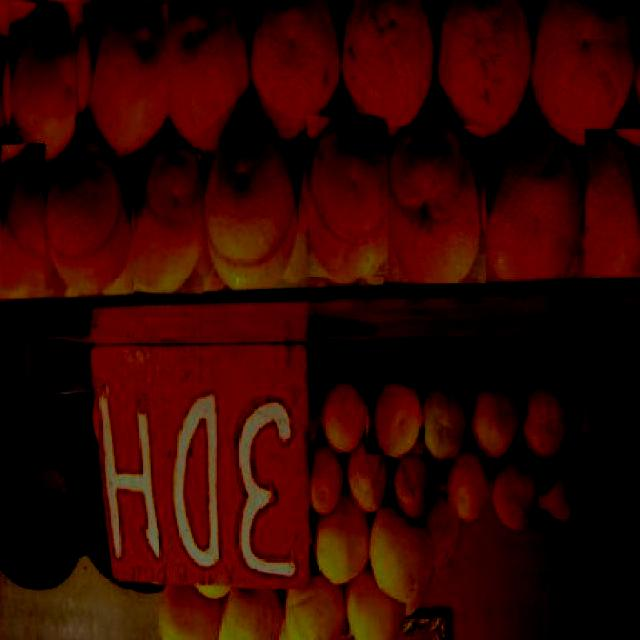Orange: (482, 113, 586, 301), (384, 125, 487, 284), (531, 0, 636, 153), (204, 127, 301, 281), (44, 140, 134, 292), (442, 0, 536, 140), (246, 1, 342, 138), (160, 1, 242, 161), (308, 115, 388, 277), (83, 3, 168, 152), (343, 0, 434, 128), (10, 2, 76, 165), (133, 148, 204, 296), (585, 129, 640, 275), (0, 143, 45, 291), (368, 515, 439, 604), (303, 507, 373, 583), (486, 457, 546, 532), (276, 579, 347, 640), (367, 384, 424, 454), (346, 573, 404, 640), (216, 581, 281, 640), (419, 383, 467, 461), (471, 384, 519, 460), (522, 384, 569, 460), (541, 455, 594, 521), (445, 449, 491, 523), (390, 451, 438, 519), (320, 384, 366, 453), (154, 590, 219, 638), (338, 454, 387, 514), (568, 385, 613, 447), (306, 446, 343, 514)
